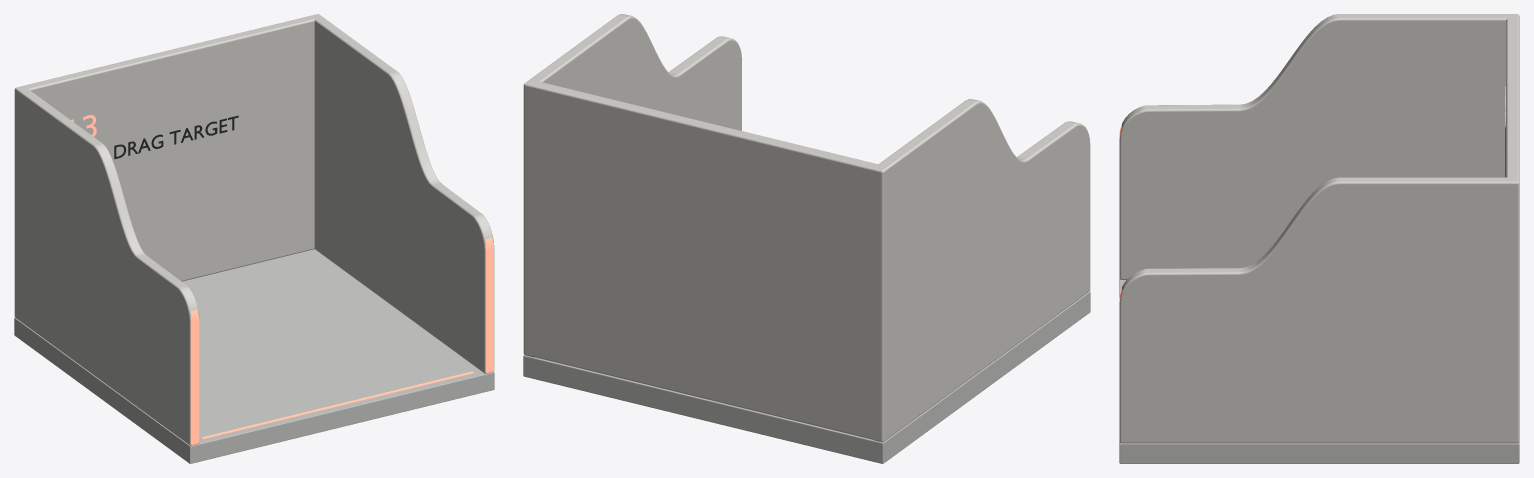
Rendered from Room_13_area-drag-target.glb.
3 views of the same model, side by side, from view 1: azimuth 30°, elevation 25°; view 2: azimuth 150°, elevation 25°; view 3: azimuth 270°, elevation 25° (orthographic). The views are drawn at different scales.
Visible parts, largest first — view 1: Walls, Floor, Label, Accent; view 2: Walls, Floor; view 3: Walls, Floor.
Boxes of the visible parts, x1,y1,x2,y2 form: Walls: (14, 14, 494, 445); Floor: (14, 249, 494, 463); Label: (71, 115, 238, 159); Accent: (201, 371, 473, 439); Walls: (523, 14, 1090, 442); Floor: (523, 291, 1090, 463); Walls: (1119, 14, 1519, 443); Floor: (1119, 278, 1519, 463).
Bounding box in the file's own units: 3.6 × 2.8 × 3.6.
